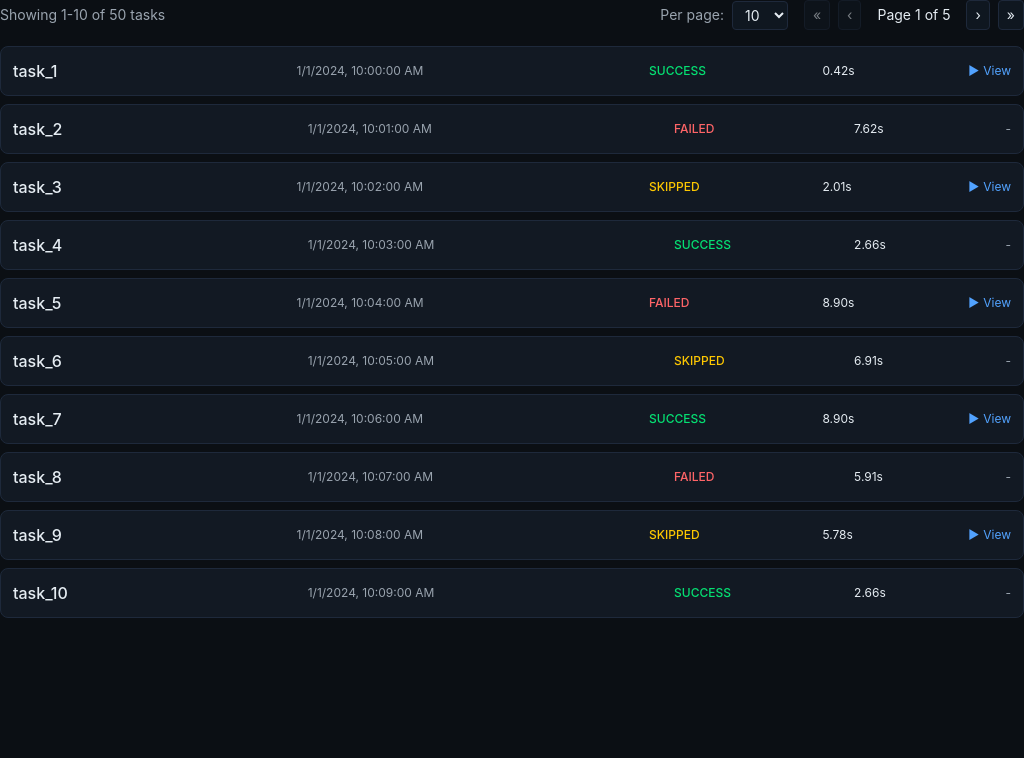
Scenario: ServiceTasksTable › Bug #75: Pagination functionality › resets to page 1 when page size changes
Note: Go to page 2
Click the button titled "Next page" at {"x": 978, "y": 15}, box [966,0,990,30]
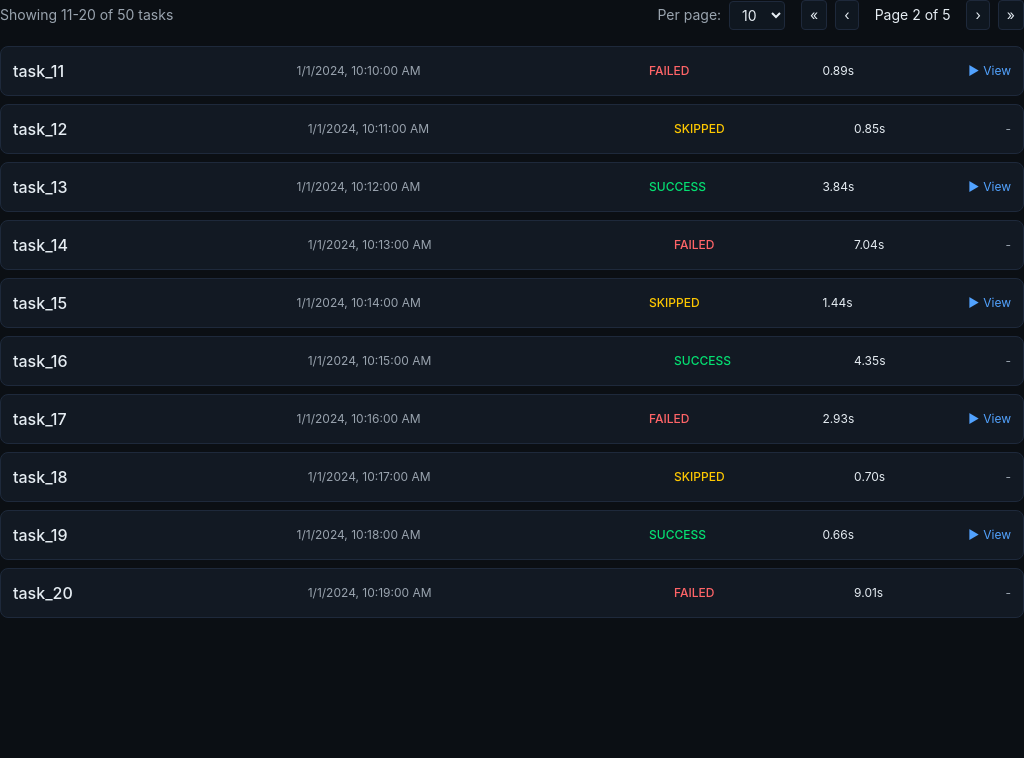
Now the text "Page 2 of 5" is shown, box [875,6,950,23]
Note: Change page size
Select "25" in the dropdown at {"x": 757, "y": 15}, box [729,0,785,30]
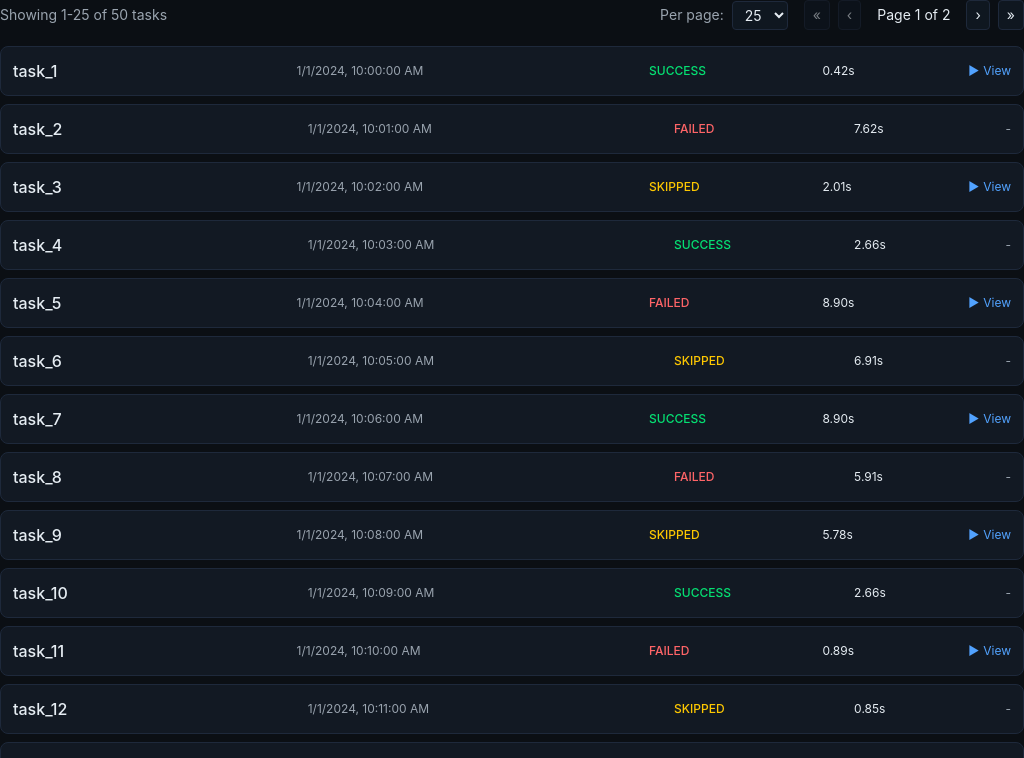
Now the text "Page 1 of 2" is shown, box [877,6,950,23]
